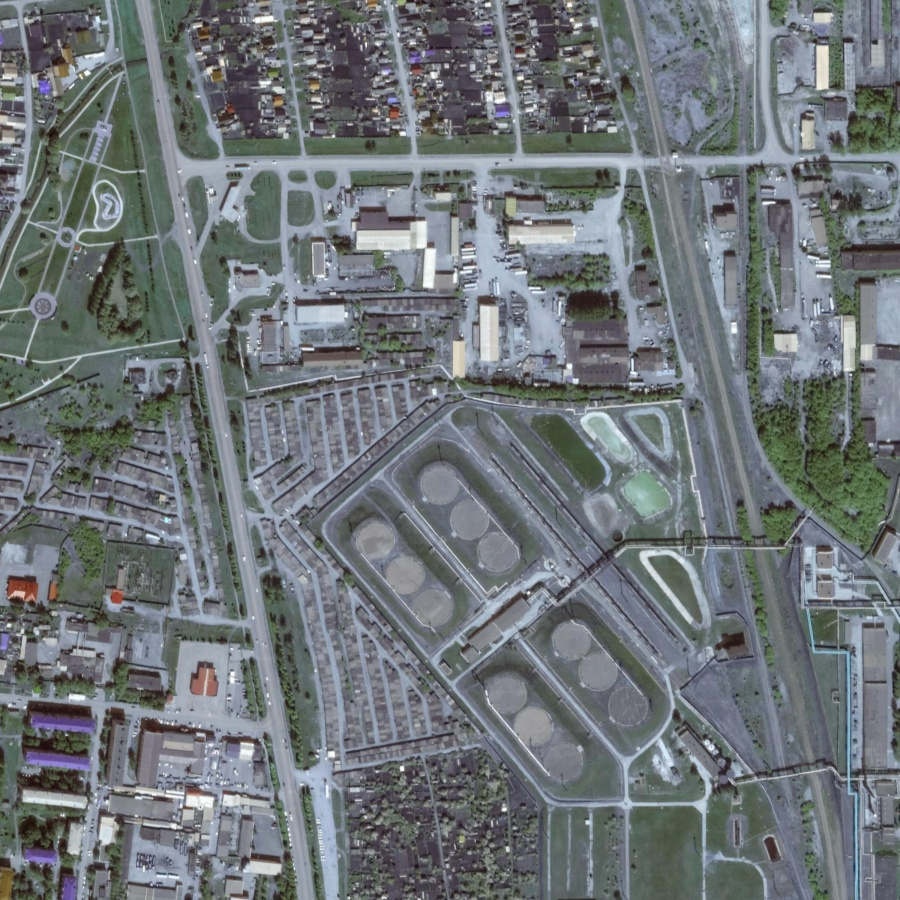PowerPlant: (337, 425, 670, 791)
